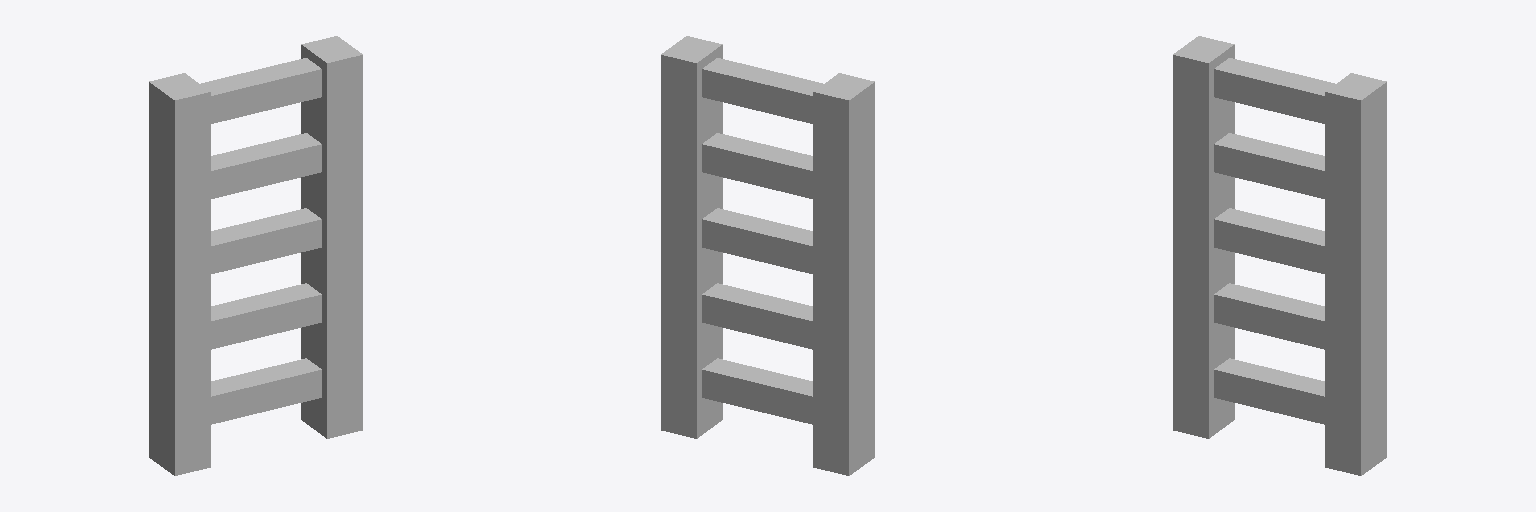
File: ladder.obj
The picture shows the model from 3 angles: view 1: azimuth 30°, elevation 25°; view 2: azimuth 150°, elevation 25°; view 3: azimuth 330°, elevation 25°; orthographic projection.
Bounding box in the file's own units: 21 × 40 × 5.